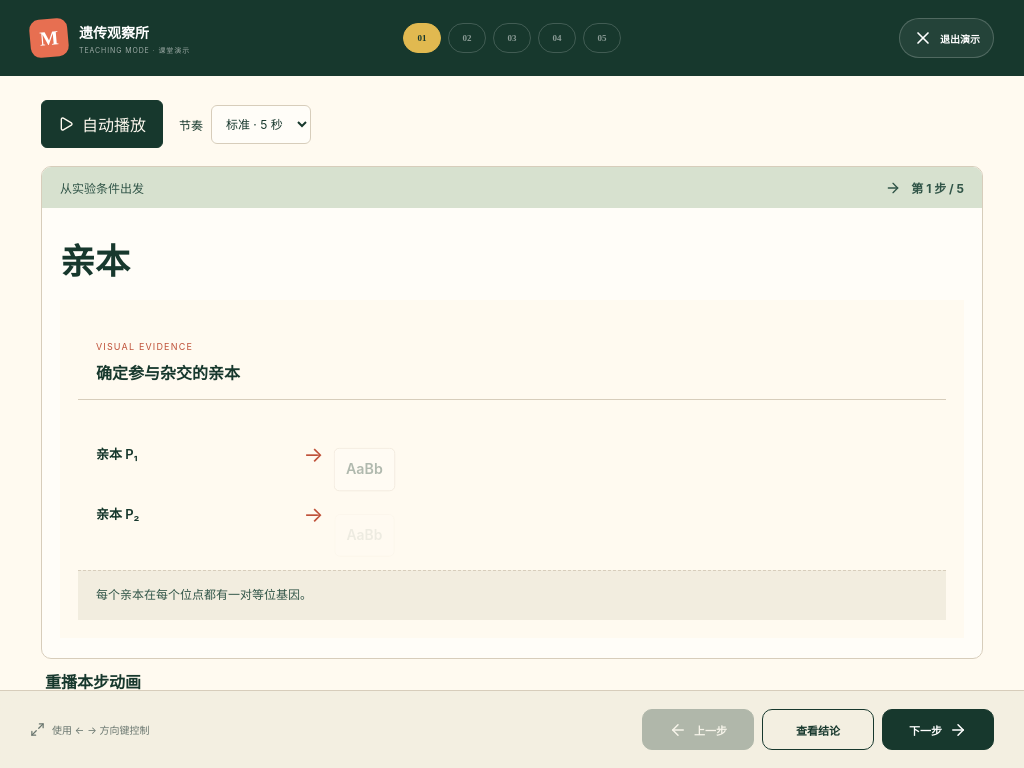
PresentationMode › can jump to the final conclusion
Click the button "查看结论" at {"x": 818, "y": 730}, box [762,709,874,750]
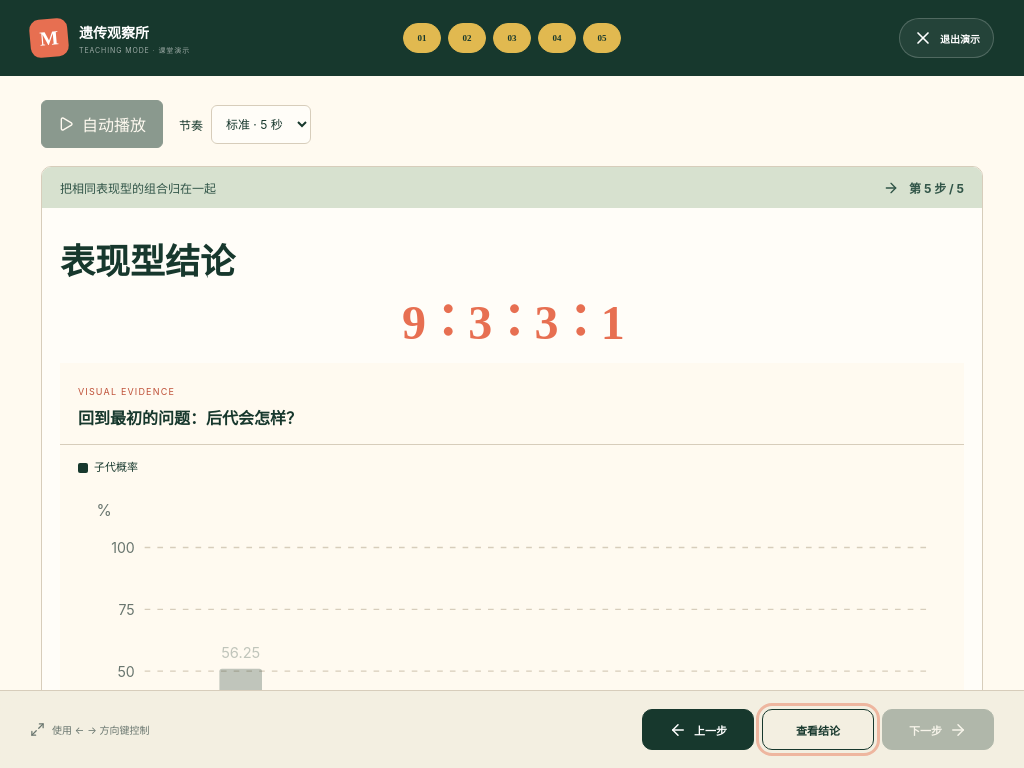
Expected: the heading "表现型结论" is shown, [60,243,235,282]
Expected: the text "9∶3∶3∶1" is shown, [402,296,622,349]
